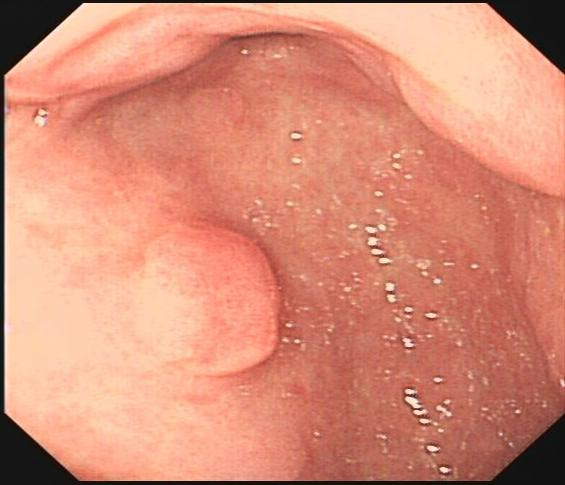Polyp: (132, 204, 281, 379)
